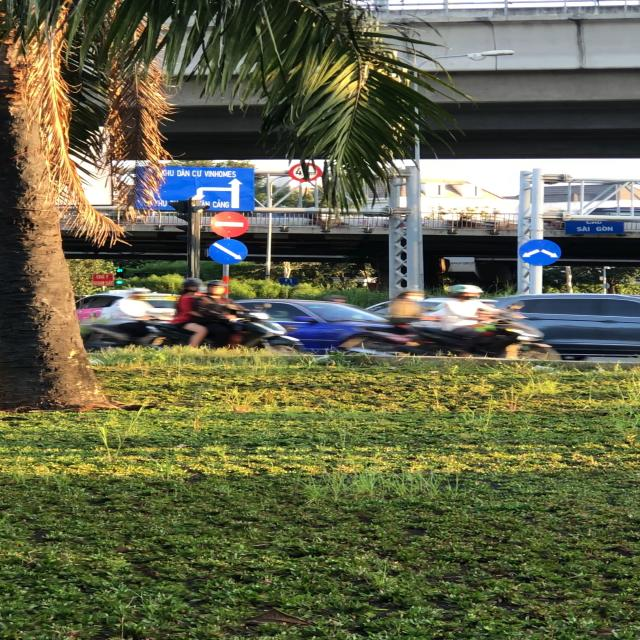Bien bao cam di nguoc chieu: (205, 210, 254, 238)
Bien bao huong phai di vong chuong ngai vat: (514, 236, 566, 268), (207, 238, 255, 266)
